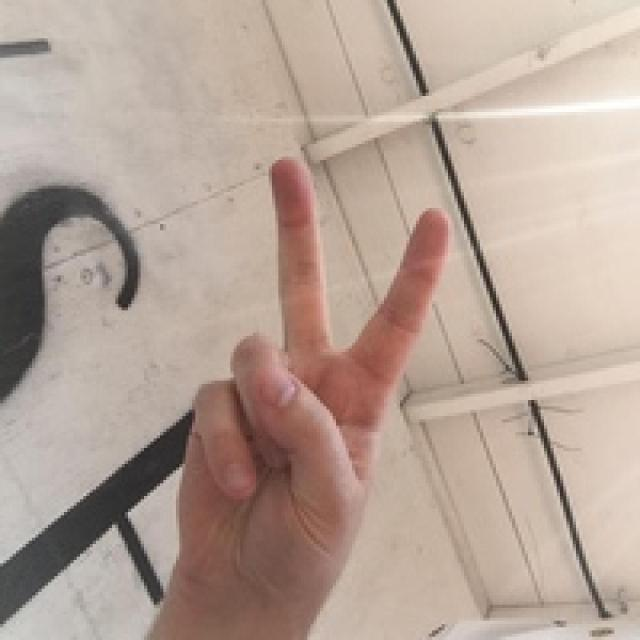V: (191, 109, 464, 634)
